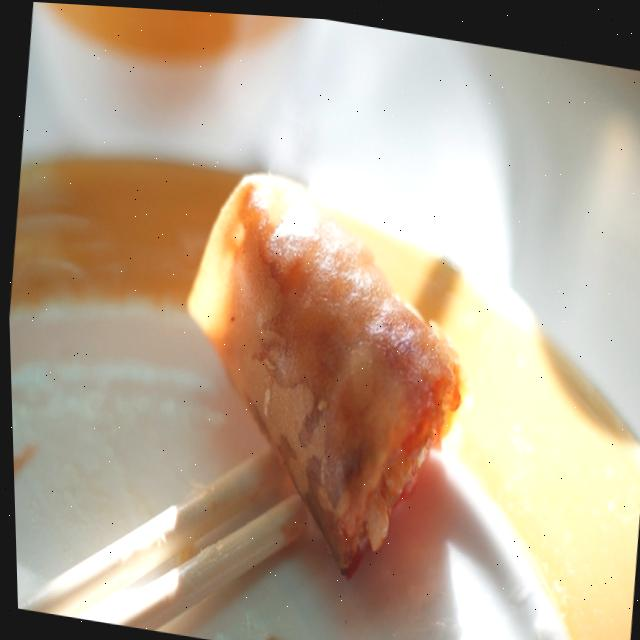炸货点心: (140, 103, 520, 584)
